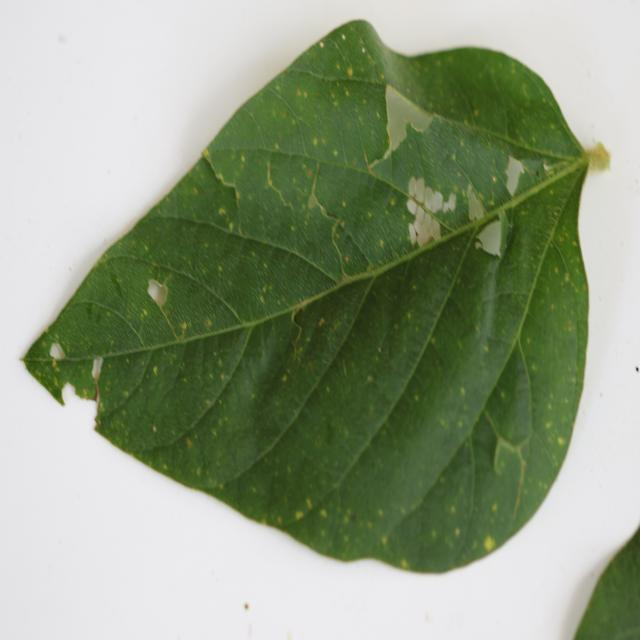Deficiency Leaf: (246, 234, 479, 530), (95, 264, 291, 462), (90, 220, 333, 344), (403, 213, 535, 411), (210, 153, 396, 281), (398, 47, 590, 168), (497, 217, 581, 486), (395, 108, 565, 238), (214, 72, 396, 187), (495, 152, 588, 301), (208, 181, 319, 295), (274, 268, 377, 382), (35, 299, 147, 369), (154, 160, 247, 239), (305, 364, 380, 445)
Soybean: (18, 19, 600, 578)
